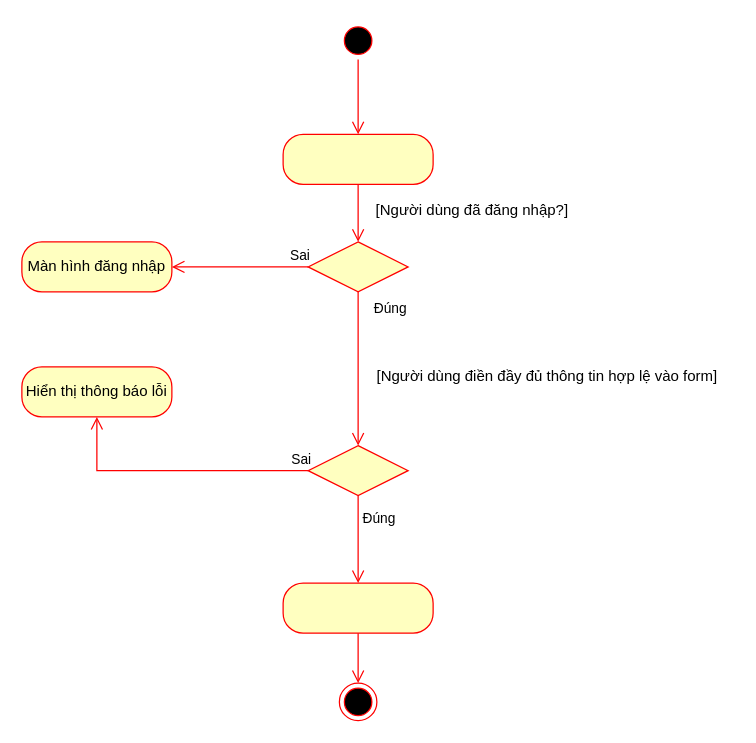
The diagram is 756 pixels wide and 743 high, and some of its shapes have lost their labels. The shapes that lost their labels are listed below. From the top down, each one's centre as x and y in pixels, then its label:
(357,158): Màn hình trang thông tin cá nhân
(357,607): Hiển thị thông báo thay đổi thành công
